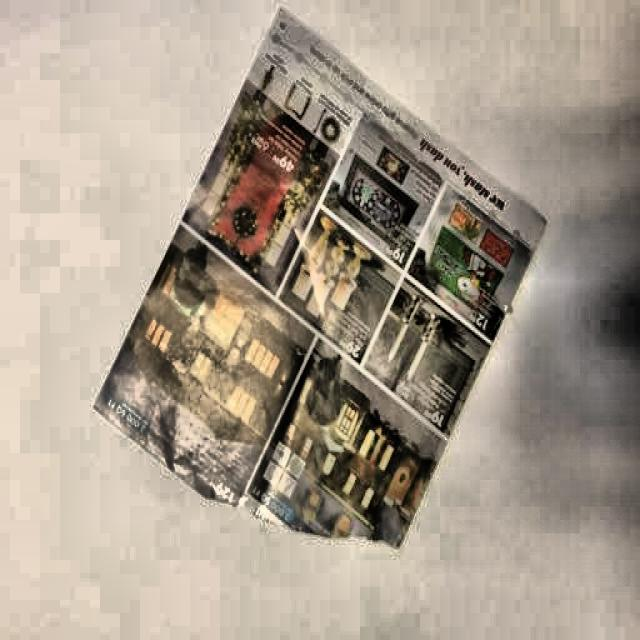paper: (84, 0, 544, 558)
